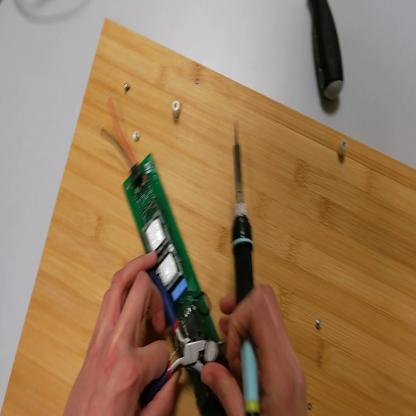hand: (68, 251, 180, 415), (204, 283, 308, 414)
high voltage board: (100, 87, 229, 416)
pliers: (139, 265, 224, 403)
screwdriver-: (309, 1, 345, 107)
welder probe tip: (233, 124, 261, 412)
working area: (3, 20, 416, 415)
